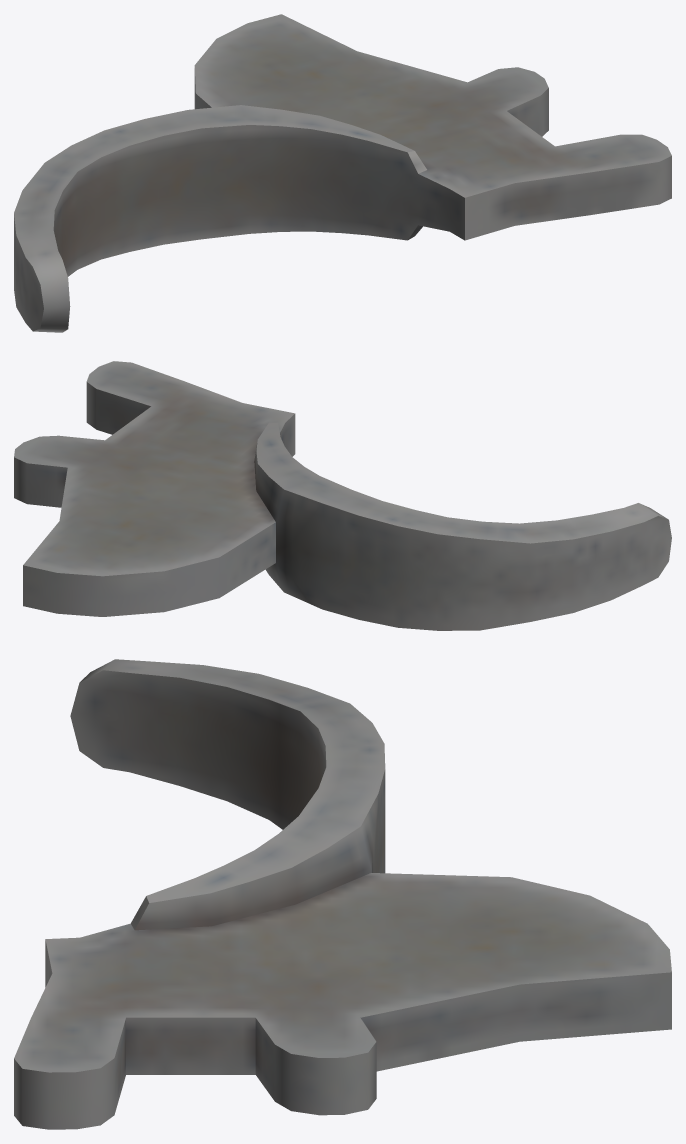
The model's file is SM_RageBull_01g.fbx.
The picture shows the model from 3 angles, top to bottom: view 1: azimuth 30°, elevation 25°; view 2: azimuth 150°, elevation 25°; view 3: azimuth 270°, elevation 25°; orthographic projection. The views are drawn at different scales.
Visible parts, largest first — view 1: SM_RageBull_01g_LOD0; view 2: SM_RageBull_01g_LOD0; view 3: SM_RageBull_01g_LOD0.
Part boxes in pixels (bbox=[...]): SM_RageBull_01g_LOD0: bbox=[14, 14, 671, 332]; SM_RageBull_01g_LOD0: bbox=[14, 361, 671, 630]; SM_RageBull_01g_LOD0: bbox=[14, 659, 671, 1129].
Size of the model in its own units: 4.8 by 3.34 by 0.8331.
